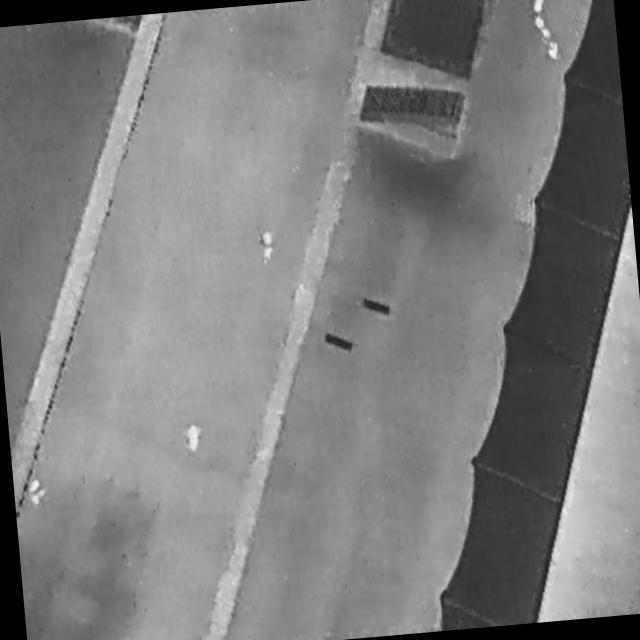person: (182, 421, 205, 455), (26, 476, 49, 509), (257, 229, 277, 265)
